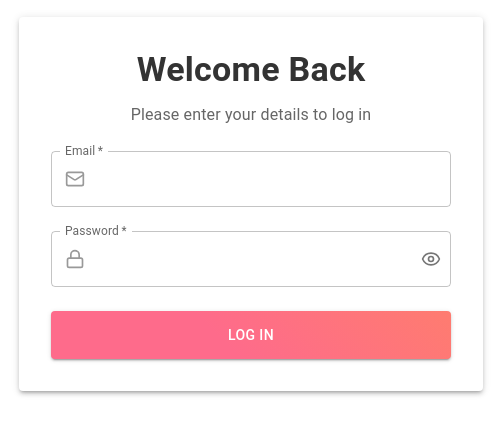
Login Form › should show an error with invalid credentials
Type "wrong@example.com" into the element with test id "email-input" at (251, 179), box [51, 151, 451, 207]
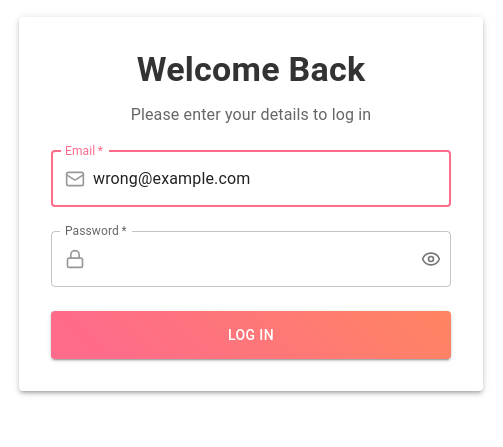
Type "wrongpassword" into the element with test id "password-input" at (251, 259), box [51, 231, 451, 287]
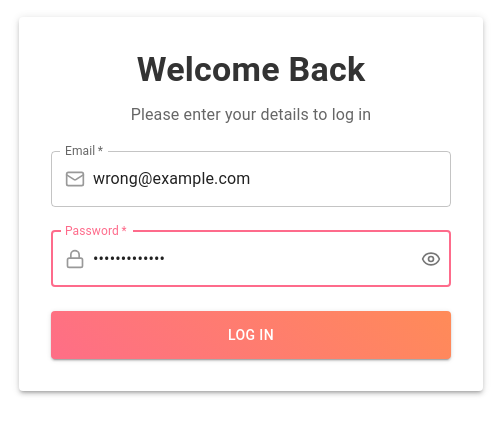
Click the button with test id "submit-button" at (251, 335), box [51, 311, 451, 359]
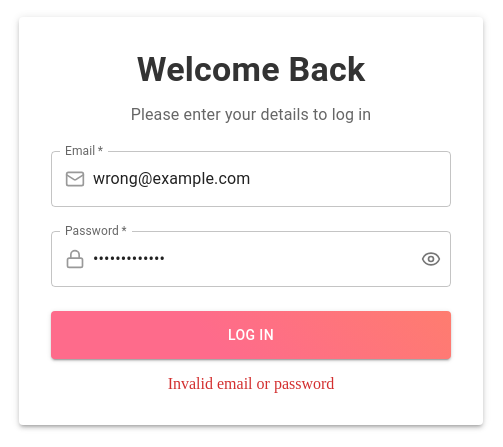
Expected: the text "Invalid email or password" is shown, [168, 375, 334, 392]
Expected: the text with test id "error-message" reads "Invalid email or password", [168, 375, 335, 392]
